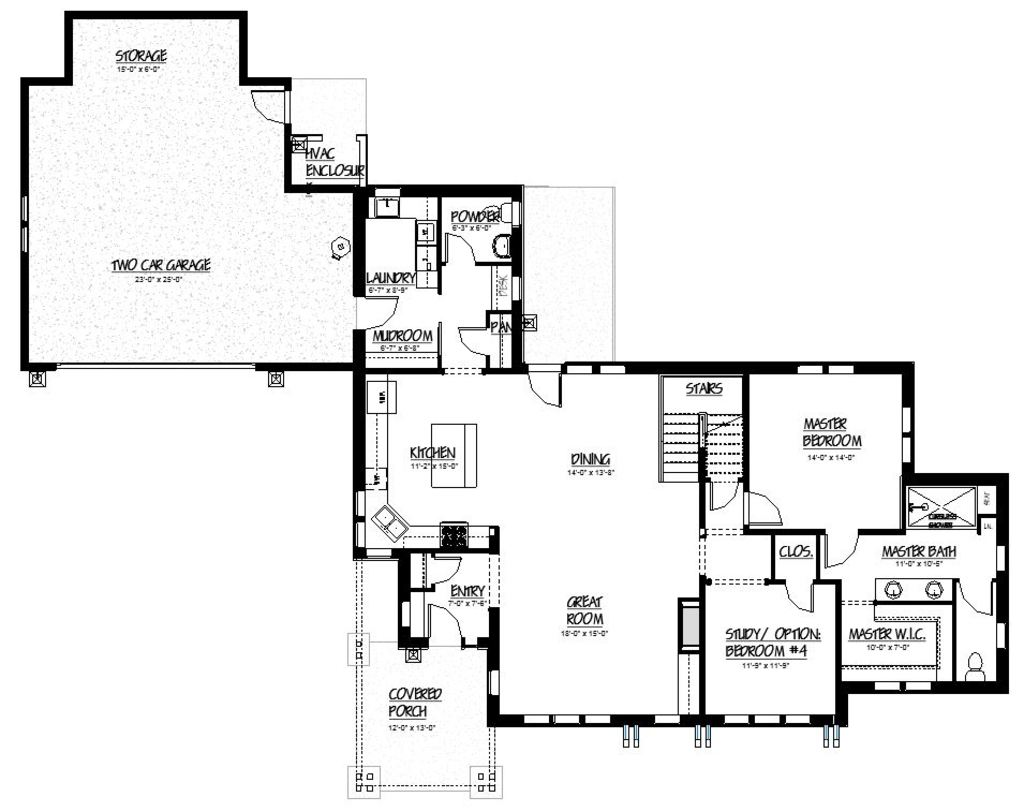door: (248, 87, 306, 137), (524, 362, 566, 413), (415, 552, 470, 589), (739, 487, 785, 529), (354, 292, 403, 329), (819, 527, 861, 570), (963, 577, 999, 624), (429, 603, 466, 647), (780, 574, 820, 613), (441, 235, 480, 269), (459, 322, 494, 357), (705, 473, 738, 508)
kitchen_bar: (418, 417, 475, 494)
large_sink: (476, 195, 526, 232), (961, 648, 995, 688)
small_sink: (879, 570, 944, 603), (489, 230, 511, 269)
stairs: (660, 368, 745, 485)
twin_sink: (366, 497, 420, 548)
window: (515, 708, 618, 734), (566, 355, 633, 383), (725, 710, 816, 727), (794, 359, 864, 372), (20, 197, 29, 252)
